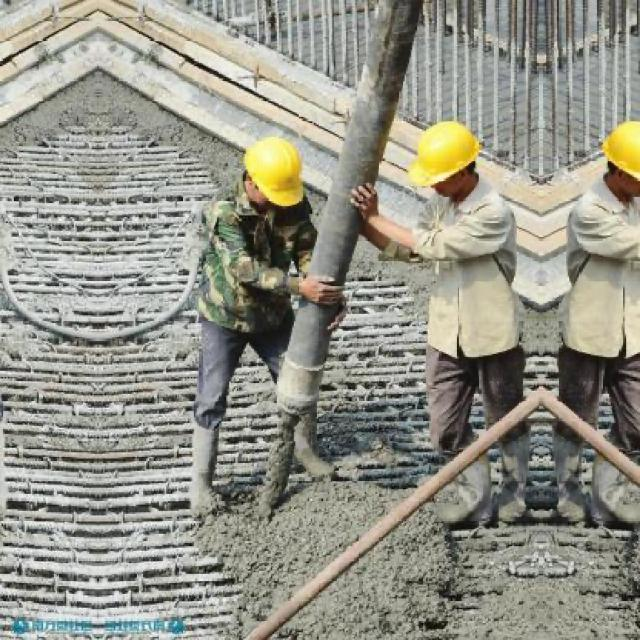con casco: (384, 116, 503, 259), (188, 132, 326, 252), (578, 102, 640, 196)
